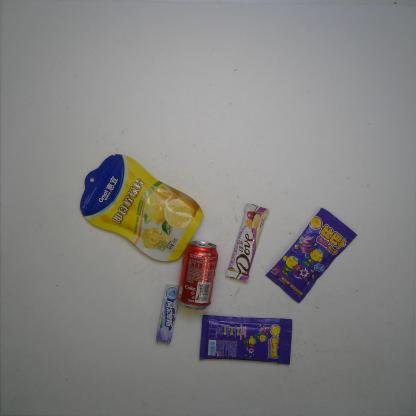Candy: (265, 207, 359, 304), (198, 313, 293, 366), (156, 283, 181, 345)
Chocolate: (226, 203, 269, 282)
Dried Fruit: (80, 154, 205, 263)
Drink: (177, 241, 220, 311)
